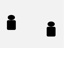human: (45, 19, 57, 38), (5, 13, 17, 30)
